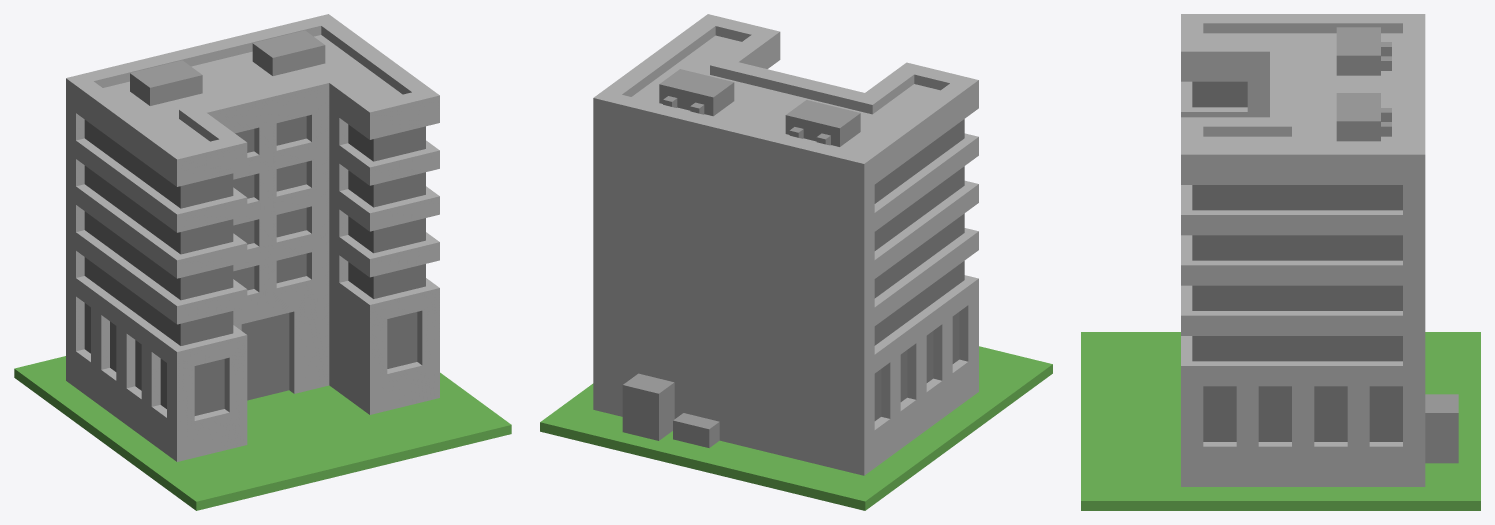
3 renders of one model, left to right at view 1: azimuth 30°, elevation 25°; view 2: azimuth 150°, elevation 25°; view 3: azimuth 270°, elevation 25°, orthographic. The views are drawn at different scales.
Parts seen in each view (by area): view 1: 5; view 2: 5; view 3: 5.
Boxes of the visible parts, x1,y1,x2,y2 form: 5: (14,14,511,510); 5: (540,14,1052,510); 5: (1081,14,1480,510).
Size of the model in its own units: 900 by 875 by 900.
